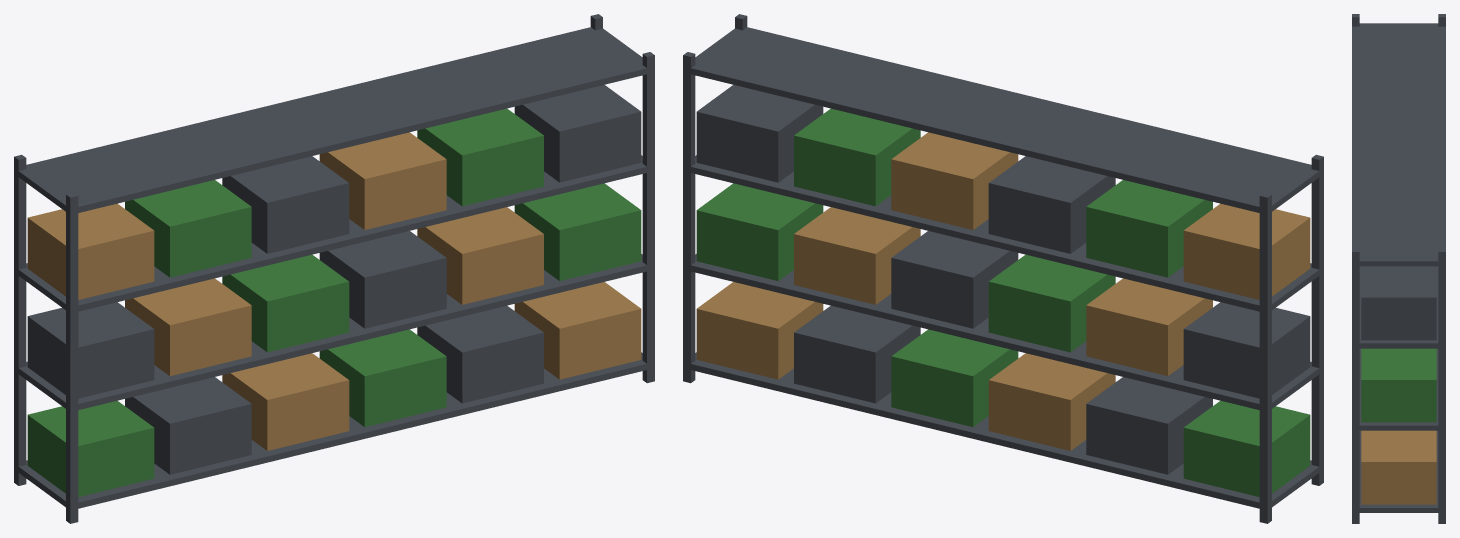
Rendered from tool shelf.glb.
3 views of the same model, side by side, from view 1: azimuth 30°, elevation 25°; view 2: azimuth 150°, elevation 25°; view 3: azimuth 270°, elevation 25° (orthographic). The views are drawn at different scales.
Parts seen in each view (by area): view 1: tool shelf; view 2: tool shelf; view 3: tool shelf.
Boxes of the visible parts, x1,y1,x2,y2 form: tool shelf: (14,14,654,523); tool shelf: (683,14,1323,523); tool shelf: (1352,14,1445,523).
Size of the model in its own units: 3 by 1.6 by 0.5.
